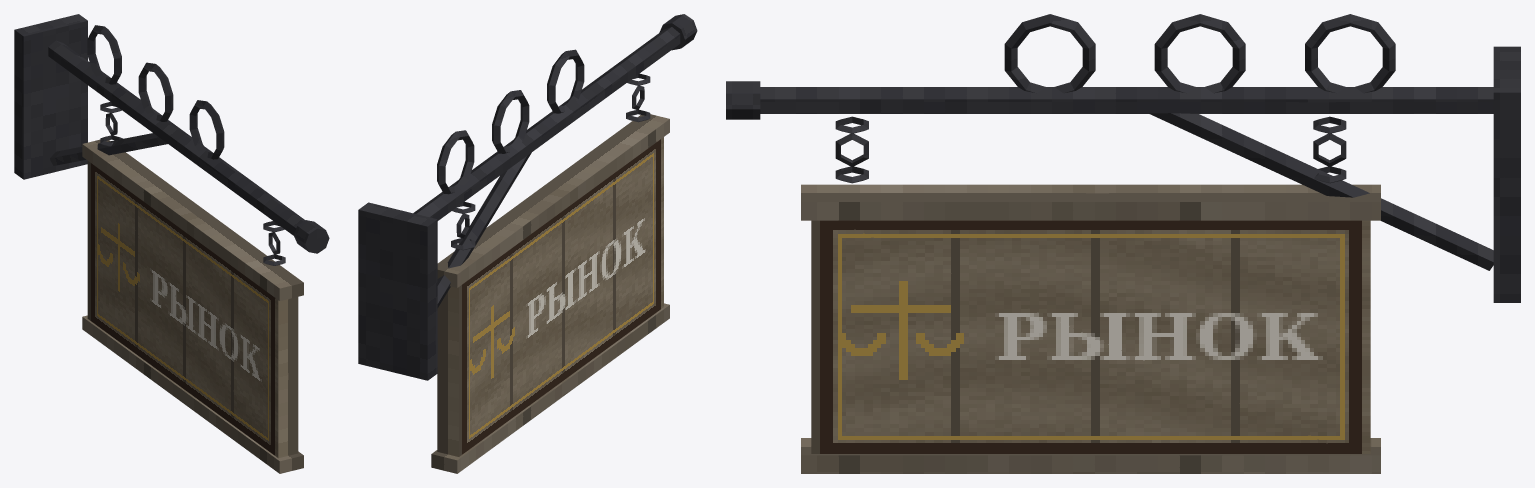
The model's file is sign_market.glb.
The picture shows the model from 3 angles, left to right: view 1: azimuth 30°, elevation 25°; view 2: azimuth 150°, elevation 25°; view 3: azimuth 270°, elevation 25°; orthographic projection. The views are drawn at different scales.
Visible parts, largest first — view 1: board, bracket; view 2: board, bracket; view 3: board, bracket.
Part boxes in pixels (x1,y1,x2,y2): board: [82, 139, 303, 473]; bracket: [14, 14, 329, 265]; board: [431, 114, 669, 473]; bracket: [358, 14, 697, 380]; board: [801, 184, 1380, 473]; bracket: [726, 14, 1520, 302].
Size of the model in its own units: 0.16 by 0.73 by 1.16.
Materials: 3 (3 with a texture image).
